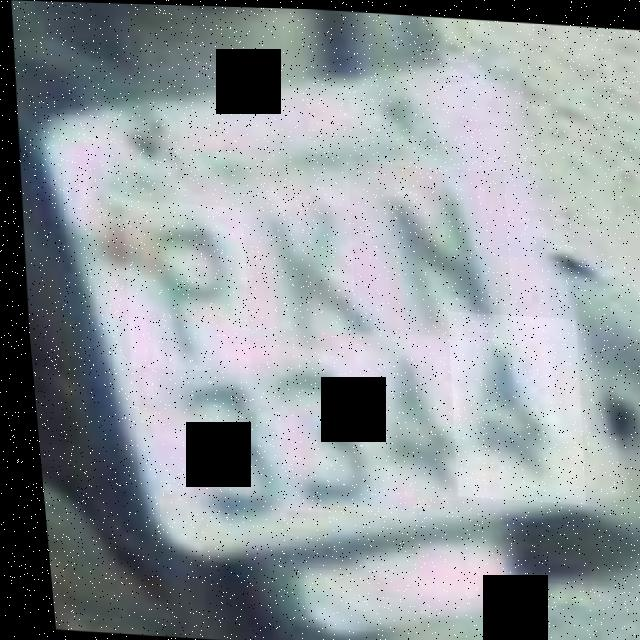3: (123, 355, 315, 525), (225, 341, 395, 514)
4: (435, 308, 583, 500), (518, 262, 640, 490), (341, 332, 485, 499)
N: (339, 160, 513, 337)
P: (112, 199, 250, 373)
